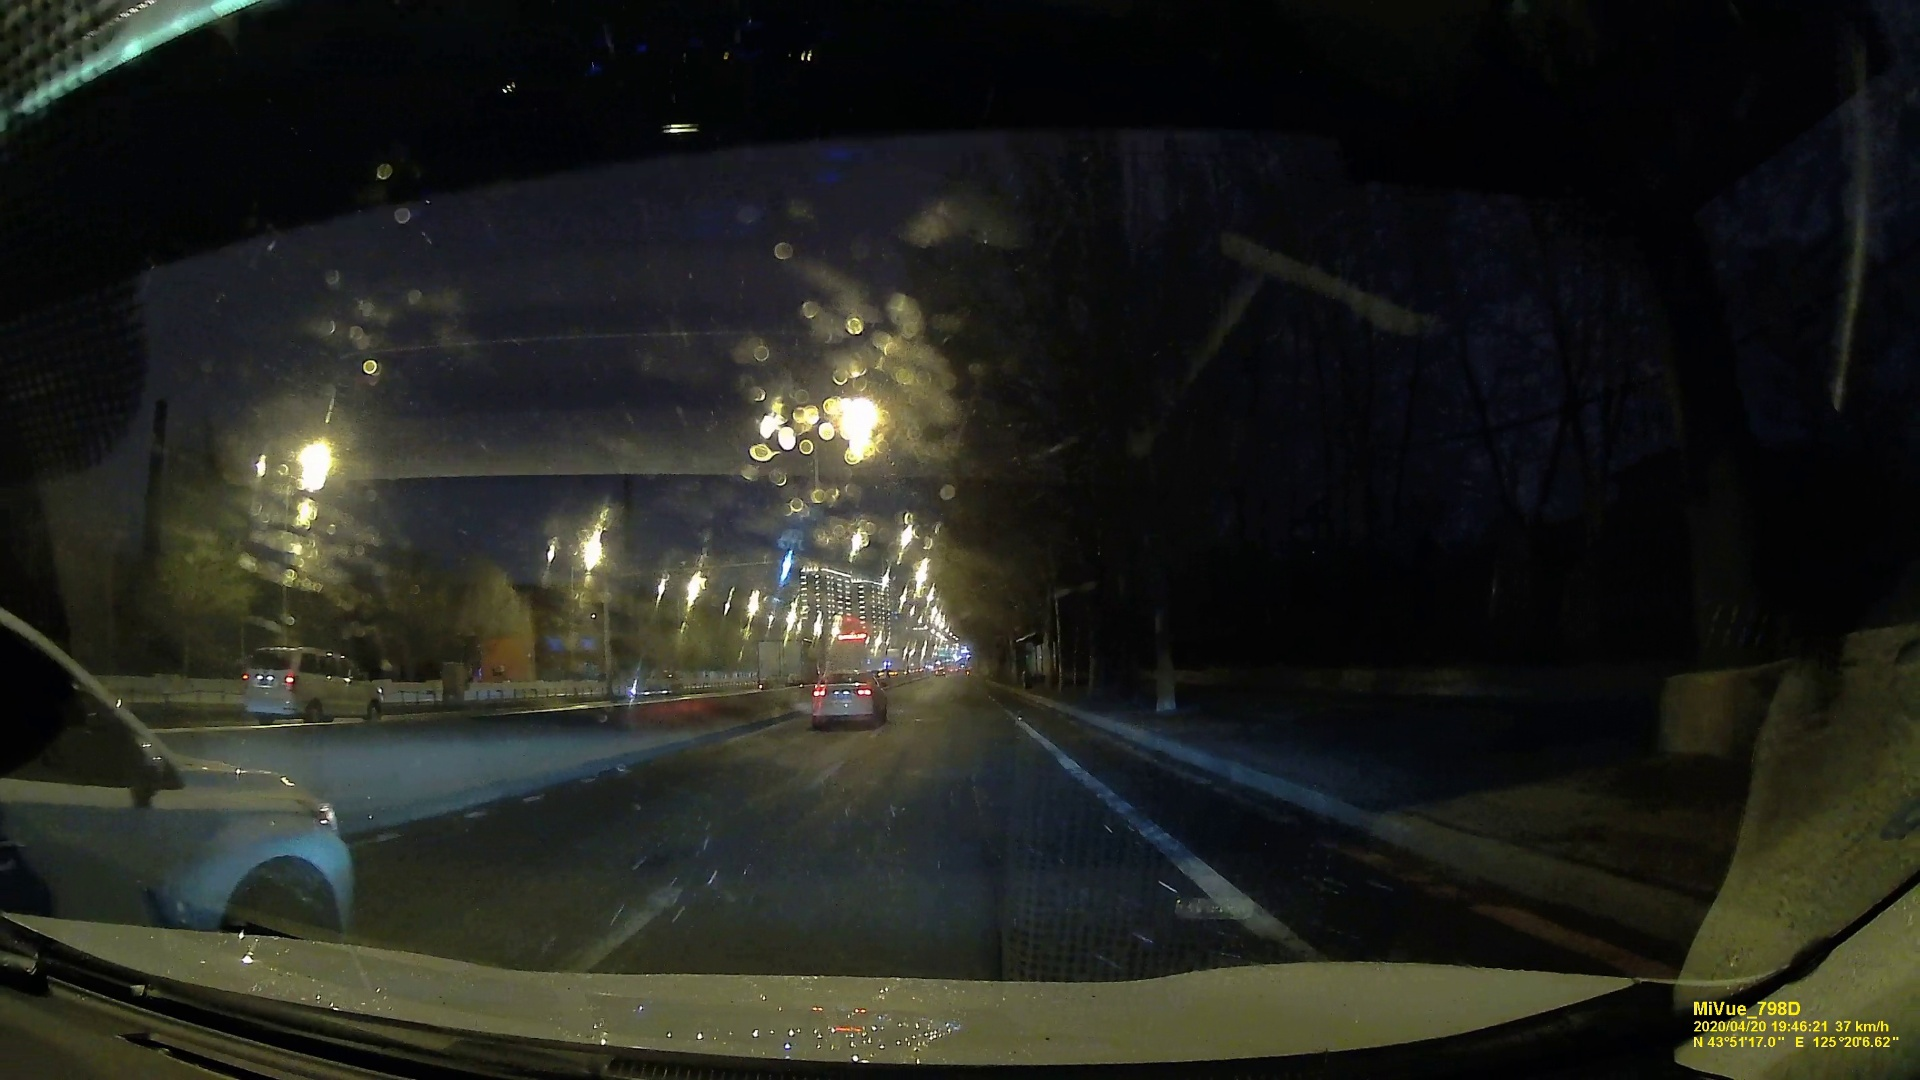vehicle: (233, 645, 386, 724), (808, 673, 886, 727)
